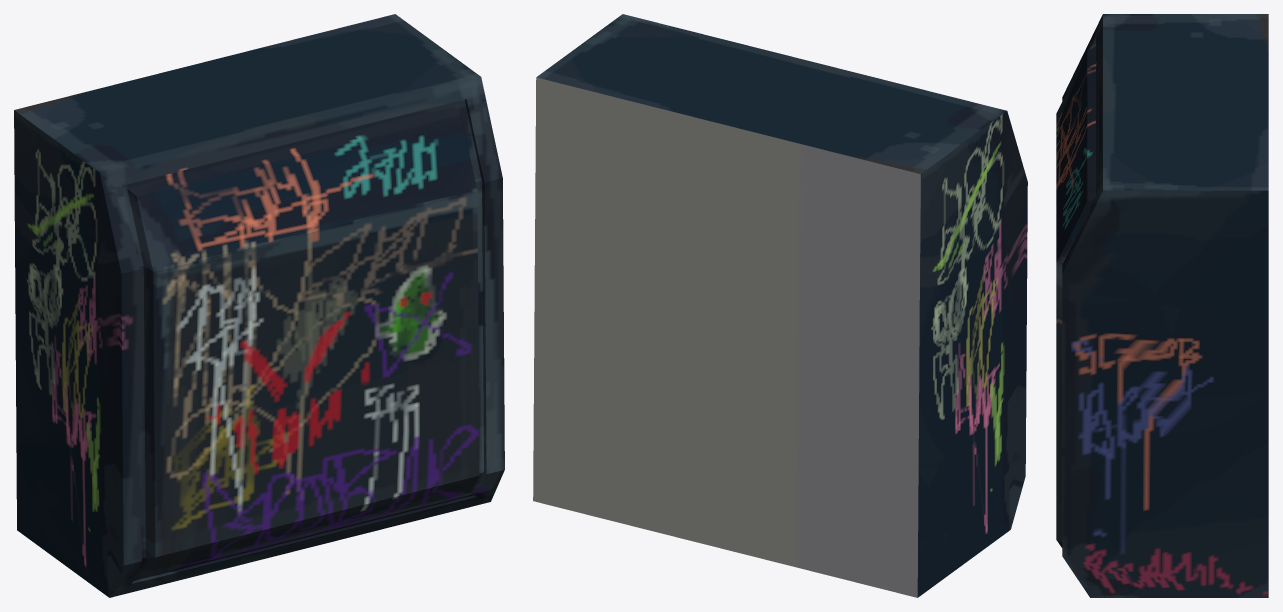
Rendered from SM_papertwl.fbx.
3 views of the same model, side by side, from view 1: azimuth 30°, elevation 25°; view 2: azimuth 150°, elevation 25°; view 3: azimuth 270°, elevation 25° (orthographic). The views are drawn at different scales.
Visible parts, largest first — view 1: SM_papertowelrack; view 2: SM_papertowelrack; view 3: SM_papertowelrack.
Part boxes in pixels (bbox=[...]): SM_papertowelrack: bbox=[14, 14, 504, 597]; SM_papertowelrack: bbox=[533, 14, 1027, 597]; SM_papertowelrack: bbox=[1056, 14, 1268, 597].
Size of the model in its own units: 32.62 by 34.38 by 16.17.
